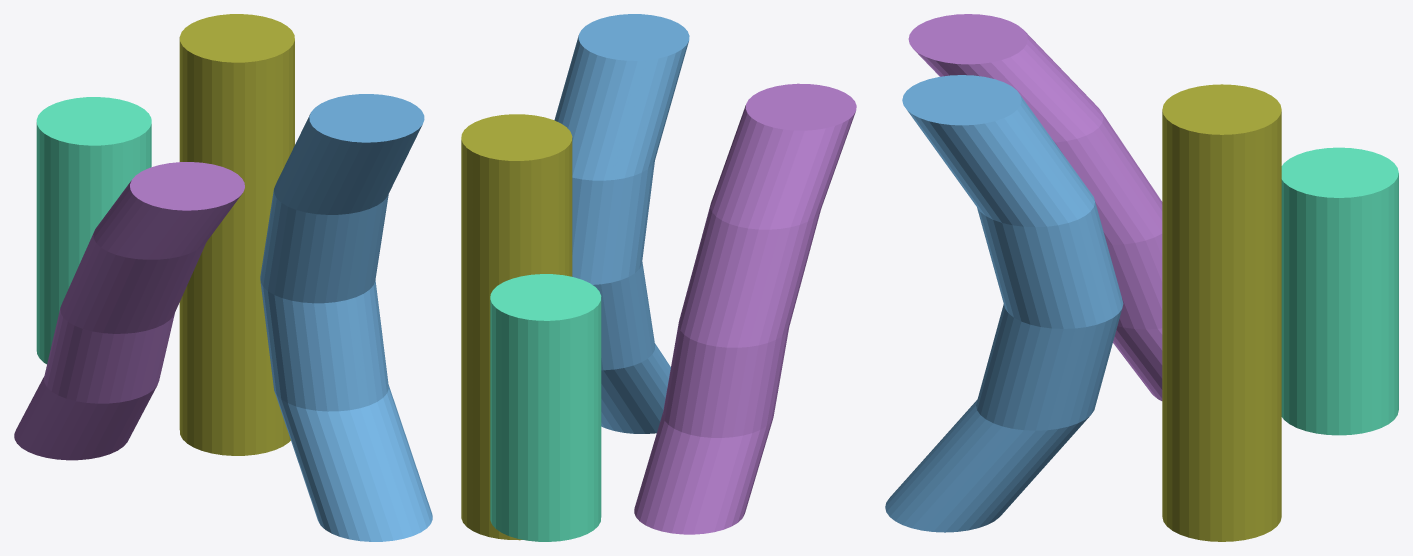
The model's file is Grama.fbx.
The picture shows the model from 3 angles, left to right: view 1: azimuth 30°, elevation 25°; view 2: azimuth 150°, elevation 25°; view 3: azimuth 270°, elevation 25°; orthographic projection. The views are drawn at different scales.
Visible parts, largest first — view 1: Cylinder.005, Cylinder.004, Cylinder.006, Cylinder.007; view 2: Cylinder.006, Cylinder.005, Cylinder.007, Cylinder.004; view 3: Cylinder.005, Cylinder.004, Cylinder.007, Cylinder.006.
Part boxes in pixels (x1=…): Cylinder.005: x1=260, y1=94, x2=432, y2=541; Cylinder.004: x1=179, y1=14, x2=294, y2=455; Cylinder.006: x1=14, y1=162, x2=244, y2=460; Cylinder.007: x1=36, y1=97, x2=151, y2=364; Cylinder.006: x1=634, y1=83, x2=856, y2=534; Cylinder.005: x1=554, y1=14, x2=689, y2=433; Cylinder.007: x1=490, y1=274, x2=601, y2=541; Cylinder.004: x1=461, y1=114, x2=572, y2=540; Cylinder.005: x1=885, y1=75, x2=1123, y2=532; Cylinder.004: x1=1162, y1=84, x2=1281, y2=541; Cylinder.007: x1=1281, y1=147, x2=1398, y2=435; Cylinder.006: x1=908, y1=14, x2=1162, y2=400.
Bounding box in the file's own units: 30.53 × 42.69 × 47.49.
